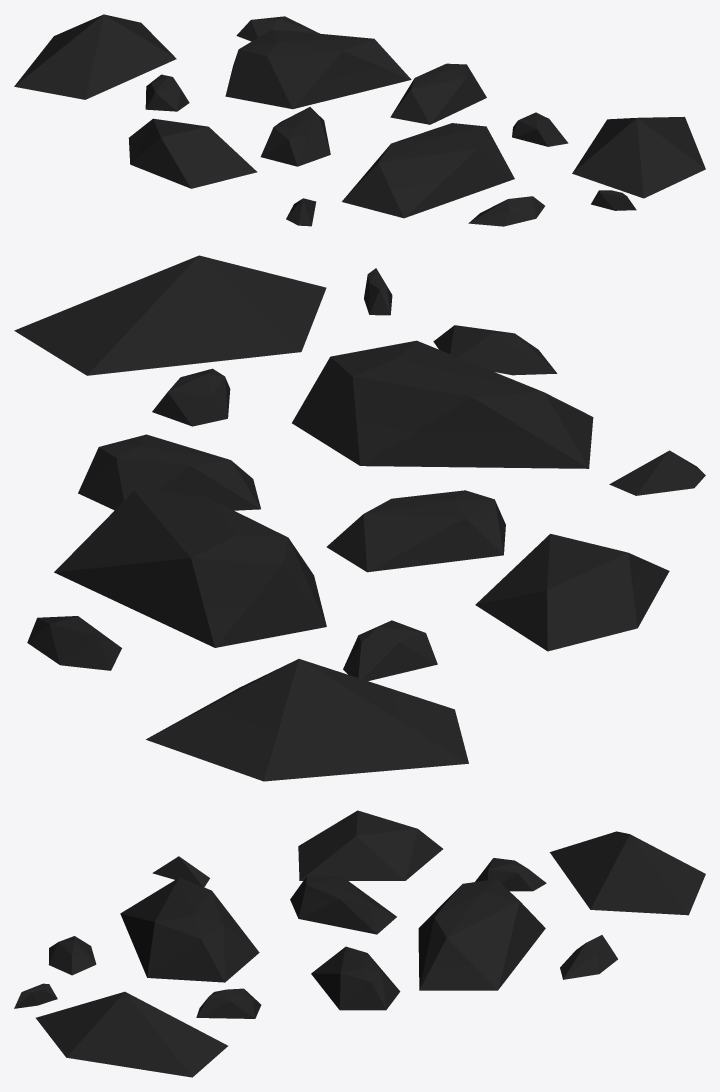
The model's file is Rubble_C.fbx.
3 renders of one model, top to bottom at view 1: azimuth 30°, elevation 25°; view 2: azimuth 150°, elevation 25°; view 3: azimuth 270°, elevation 25°, orthographic. The views are drawn at different scales.
Parts seen in each view (by area): view 1: Rubble_C; view 2: Rubble_C; view 3: Rubble_C.
Boxes of the visible parts, <box> form: Rubble_C: <box>14,14,705,226</box>; Rubble_C: <box>14,255,705,781</box>; Rubble_C: <box>14,810,705,1077</box>.
Size of the model in its own units: 62.95 by 5.64 by 74.77.
